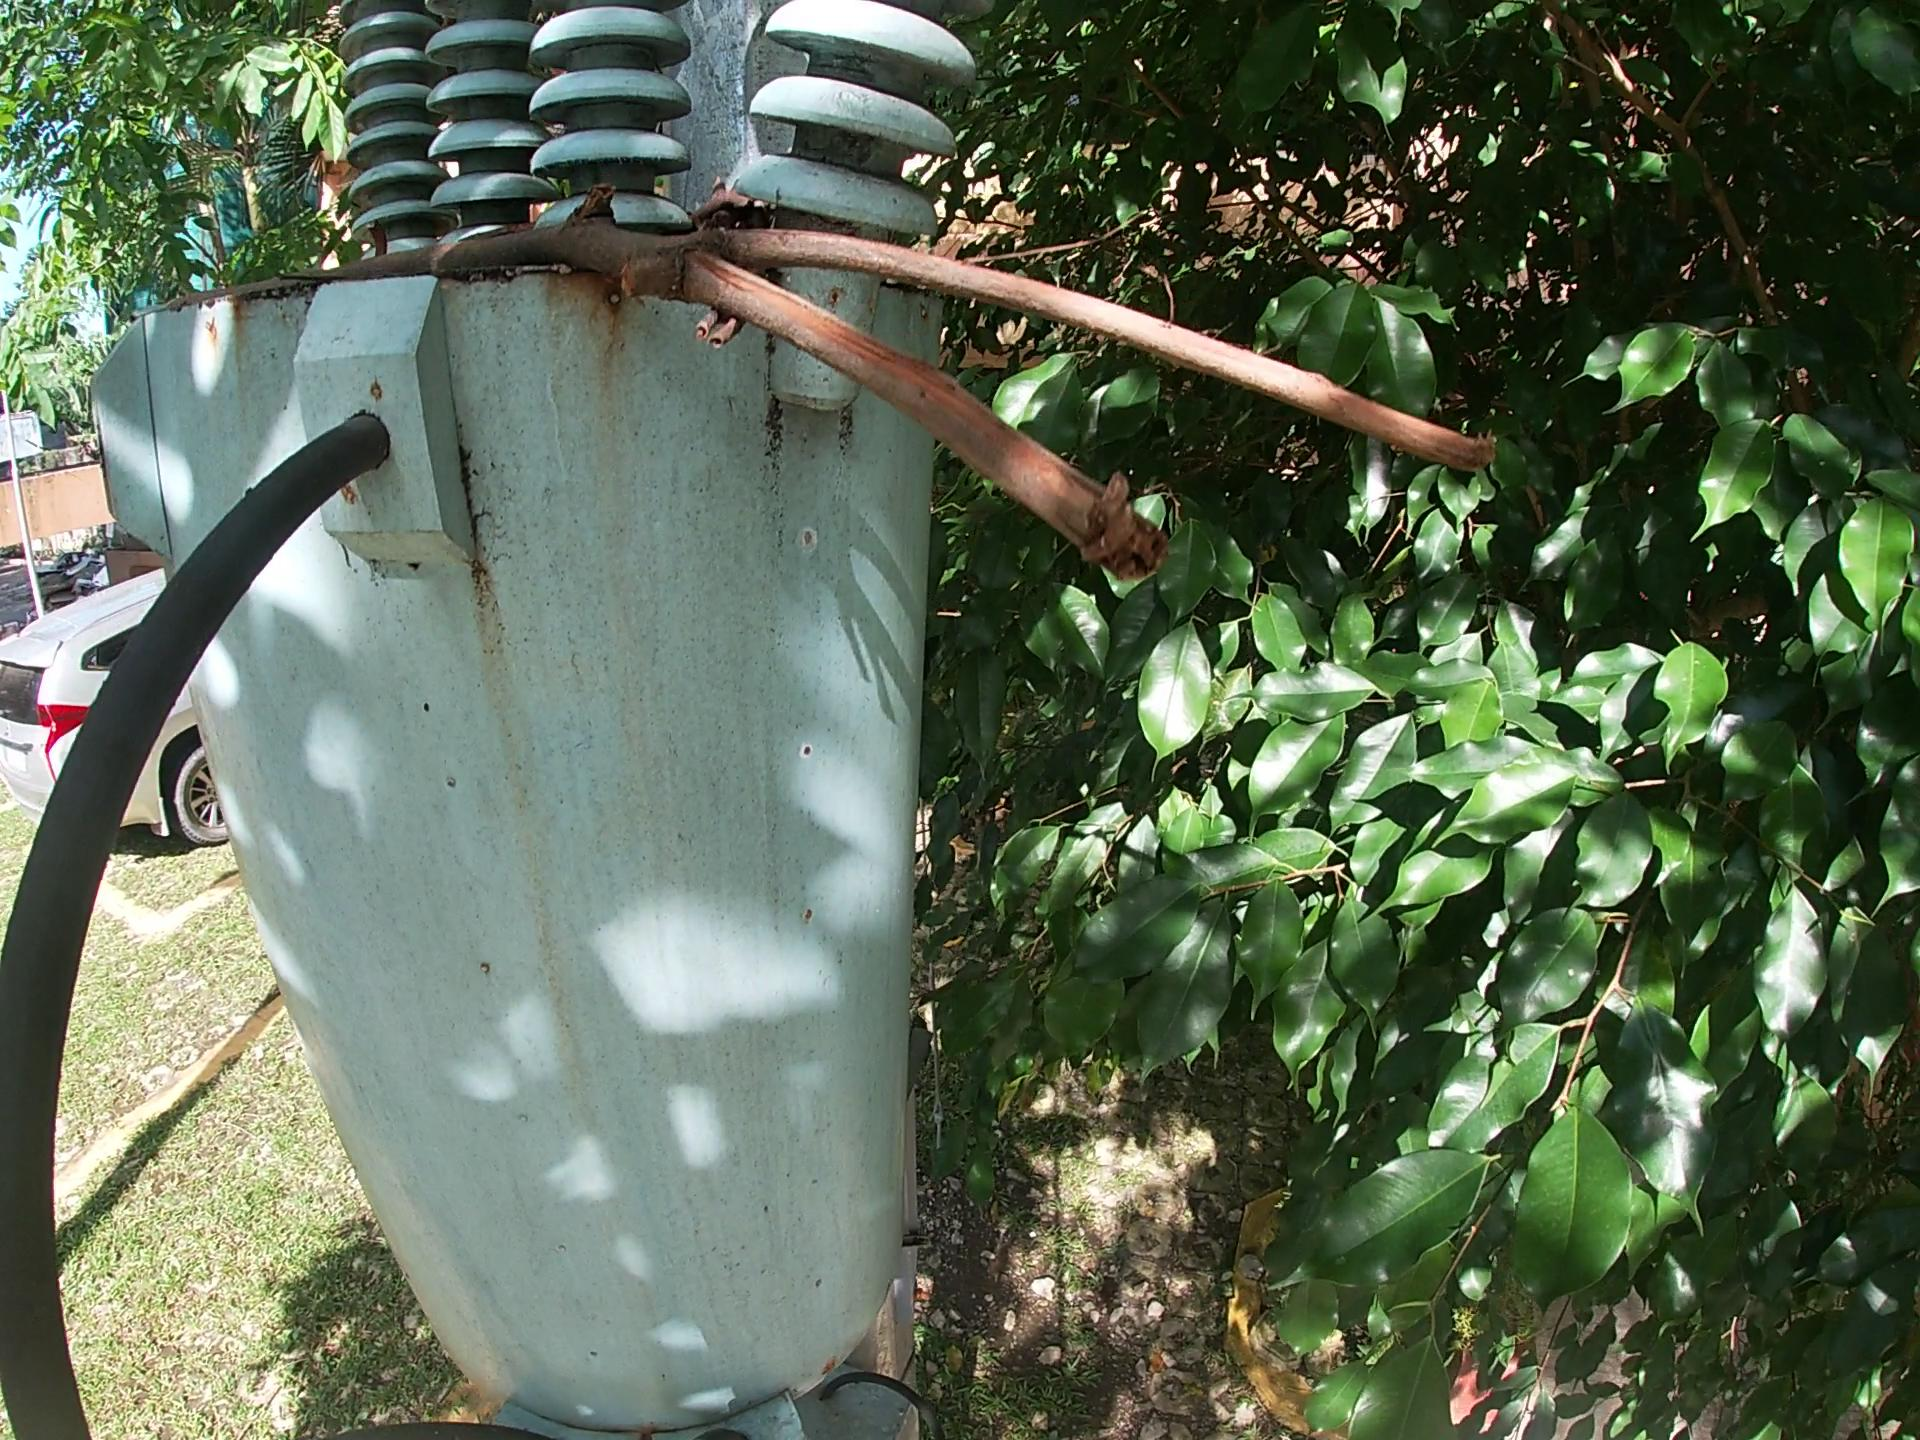tree branch: (296, 168, 1513, 594)
